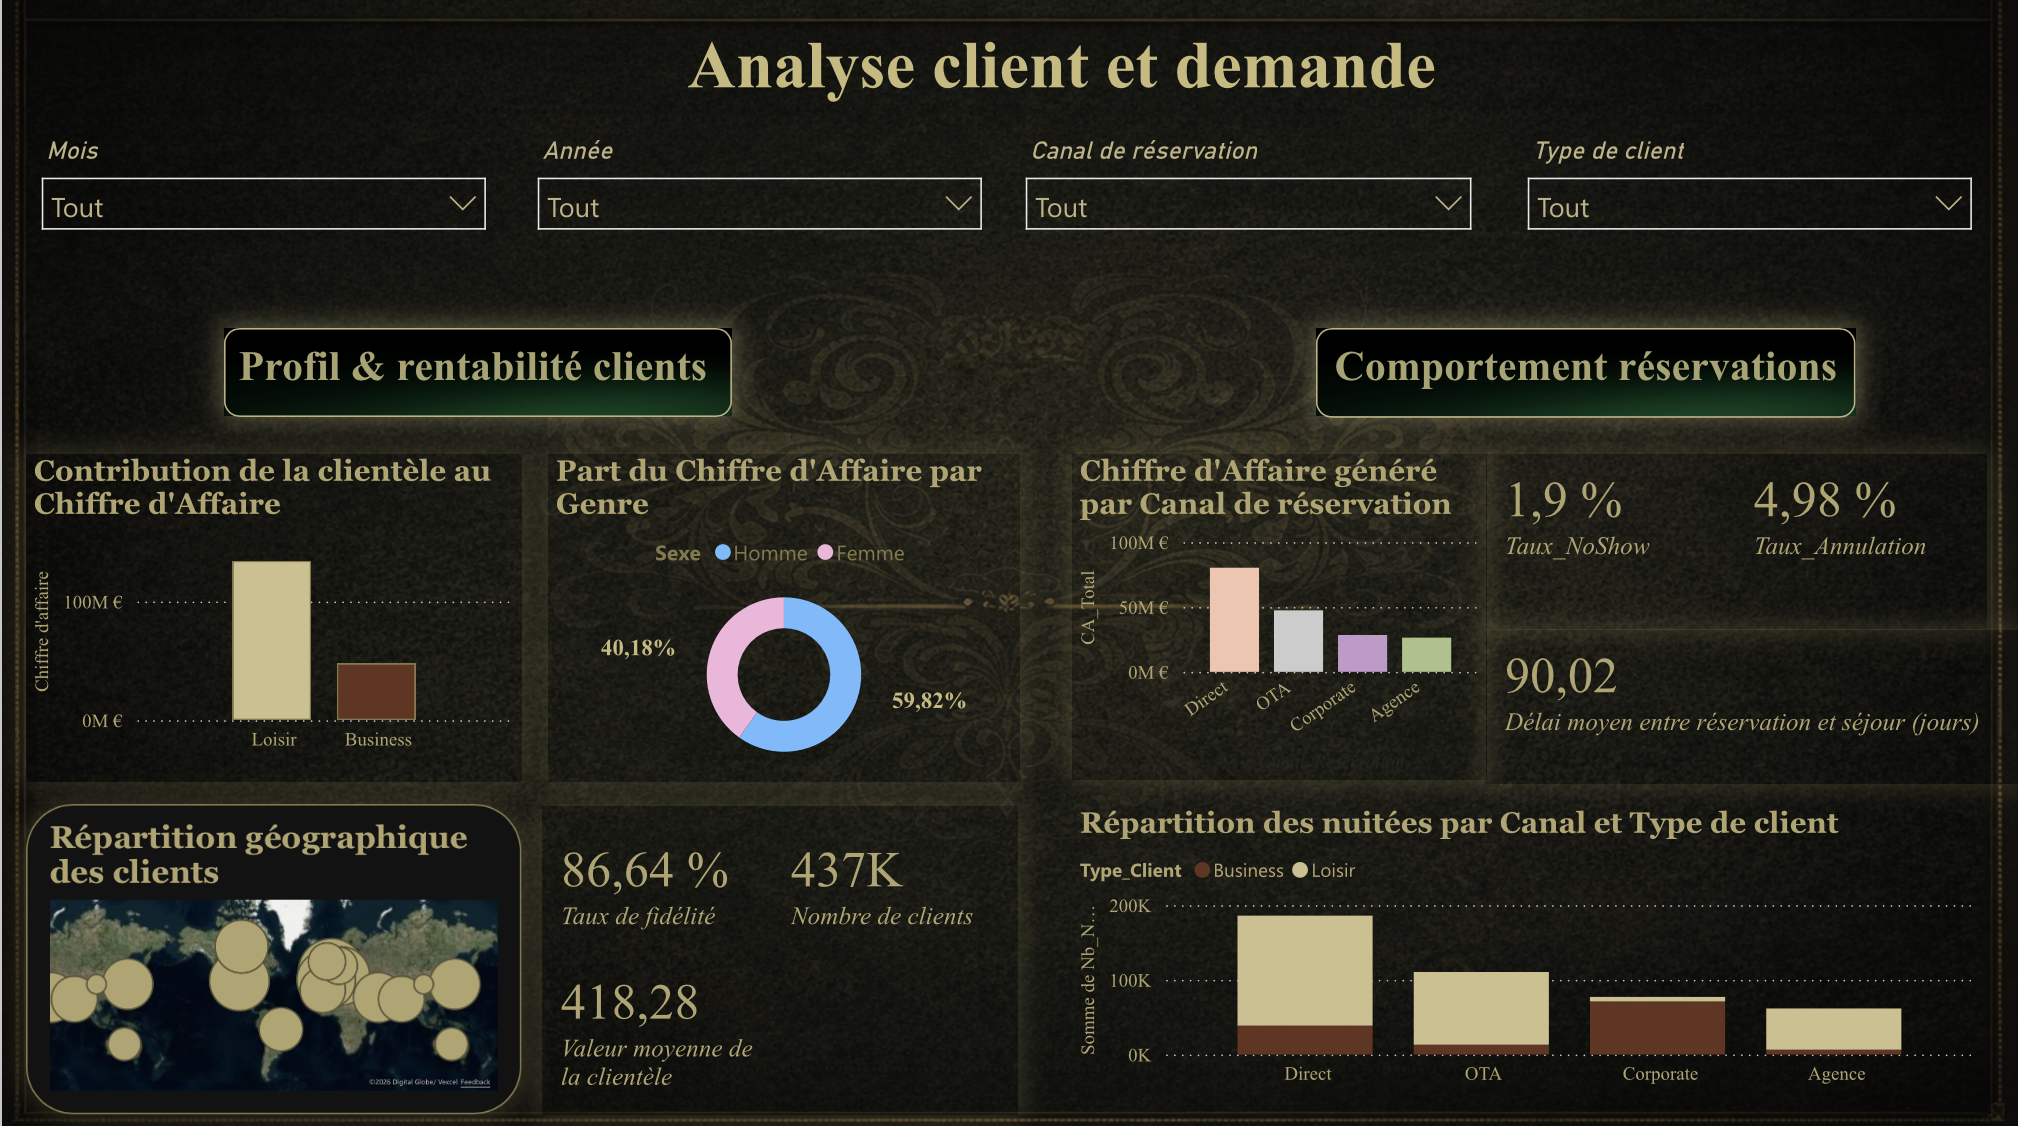

What the dashboard file says about the page in this screenshot:
{"tool":"powerbi","page":{"name":"Client et demande ","canvas":[1280,720],"ordinal":4},"visuals":[{"type":"image","box":[0,0,1280,720],"z":0},{"type":"image","box":[833.8,209.1,342.9,56.1],"z":1000},{"type":"image","box":[141.5,209.1,322.5,56.1],"z":2000},{"type":"textbox","box":[392.6,13.3,571.5,71.2],"z":3000},{"type":"clusteredColumnChart","title":"Chiffre d''Affaire généré par Canal de réservation","fields":{"Y":["Mesure.CA_Total"],"Category":["FACT_Reservations.Canal_Reservation"]},"box":[679.2,289.9,263.4,207.1],"z":4000},{"type":"cardVisual","fields":{"Data":["Mesure.Taux_NoShow","Mesure.Taux_Annulation"]},"box":[942.5,289.9,318,111],"z":5000},{"type":"columnChart","title":"Contribution de la clientèle au Chiffre d''Affaire","fields":{"Category":["DIM_Client.Type_Client"],"Y":["Mesure.CA_Total"]},"box":[15.3,289.4,314.9,207.8],"z":6000},{"type":"donutChart","title":"Part du Chiffre d''Affaire par Genre","fields":{"Y":["Mesure.Pct_CA_Sexe"],"Category":["DIM_Client.Sexe"]},"box":[346.8,289.4,299.6,207.8],"z":7000},{"type":"textbox","box":[833.9,209.5,342.6,56.9],"z":8000},{"type":"textbox","box":[141.4,209.5,322.6,56.5],"z":9000},{"type":"columnChart","title":"Répartition des nuitées par Canal et Type de client","fields":{"Category":["FACT_Reservations.Canal_Reservation"],"Series":["DIM_Client.Type_Client"],"Y":["Sum(FACT_Reservations.Nb_Nuits)"]},"box":[679.5,512.5,580.1,196.3],"z":10000},{"type":"slicer","fields":{"Values":["Calendrier.Date.Variation.Hiérarchie de dates.Année"]},"box":[330.3,84.8,302,65.5],"z":11000},{"type":"slicer","fields":{"Values":["Calendrier.Nom du mois"]},"box":[15.4,84.8,302,65.5],"z":12000},{"type":"slicer","fields":{"Values":["DIM_Client.Type_Client"]},"box":[958.7,84.8,302,65.5],"z":13000},{"type":"slicer","fields":{"Values":["FACT_Reservations.Canal_Reservation"]},"box":[639.4,84.5,303.1,66.3],"z":14000},{"type":"cardVisual","title":" clients Temps moyen entre réservation et arrivée","fields":{"Data":["Mesure.Lead_Time_Moyen"]},"box":[942.5,400.9,337.9,97.7],"z":15000},{"type":"cardVisual","fields":{"Data":["Mesure.Taux_Fidelite","Mesure.Nb_Clients","Mesure.Valeur_Moyenne_Client"]},"box":[342.9,512.5,302.2,196.3],"z":16000},{"type":"azureMap","title":"Répartition géographique des clients","fields":{"Category":["DIM_Client.Nationalite"],"Size":["Mesure.Nb_Clients"]},"box":[14.9,511.9,314.7,197.1],"z":17000}]}

Visuals, with their boxes in screenshot pixels (x1, y1, x2, y2), scaled from the page's 1280x720 canvas onto the 2018x1126 screenshot:
image: box=[0, 0, 2017, 1125]
image: box=[1315, 327, 1855, 415]
image: box=[223, 327, 732, 415]
textbox: box=[619, 21, 1520, 132]
"Chiffre d''Affaire généré par Canal de réservation" clusteredColumnChart: box=[1071, 453, 1486, 777]
cardVisual - Mesure.Taux_NoShow x Mesure.Taux_Annulation: box=[1486, 453, 1987, 627]
"Contribution de la clientèle au Chiffre d''Affaire" columnChart: box=[24, 453, 521, 778]
"Part du Chiffre d''Affaire par Genre" donutChart: box=[547, 453, 1019, 778]
textbox: box=[1315, 328, 1855, 417]
textbox: box=[223, 328, 732, 416]
"Répartition des nuitées par Canal et Type de client" columnChart: box=[1071, 801, 1986, 1108]
slicer - Calendrier.Date.Variation.Hiérarchie de dates.Année: box=[521, 133, 997, 235]
slicer - Calendrier.Nom du mois: box=[24, 133, 500, 235]
slicer - DIM_Client.Type_Client: box=[1511, 133, 1988, 235]
slicer - FACT_Reservations.Canal_Reservation: box=[1008, 132, 1486, 236]
" clients Temps moyen entre réservation et arrivée" cardVisual: box=[1486, 627, 2017, 780]
cardVisual - Mesure.Taux_Fidelite x Mesure.Nb_Clients: box=[541, 801, 1017, 1108]
"Répartition géographique des clients" azureMap: box=[23, 801, 520, 1109]
